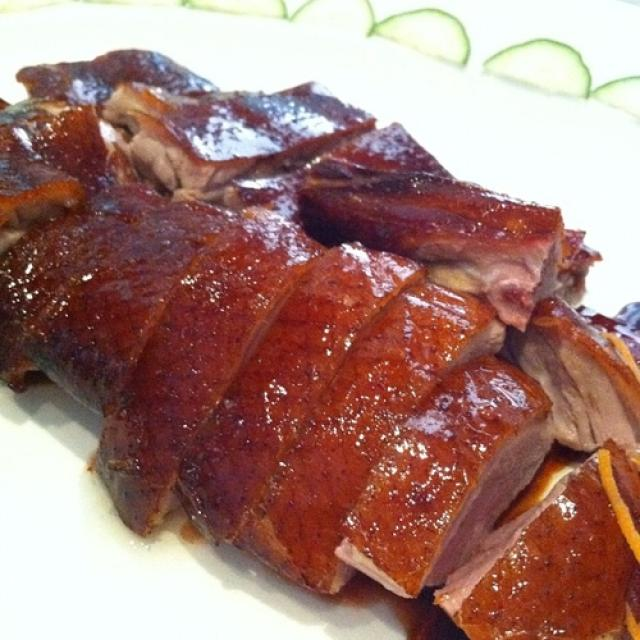烧串烤肉: (9, 40, 634, 623)
